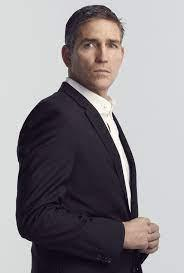Persons: (53, 7, 139, 92)
